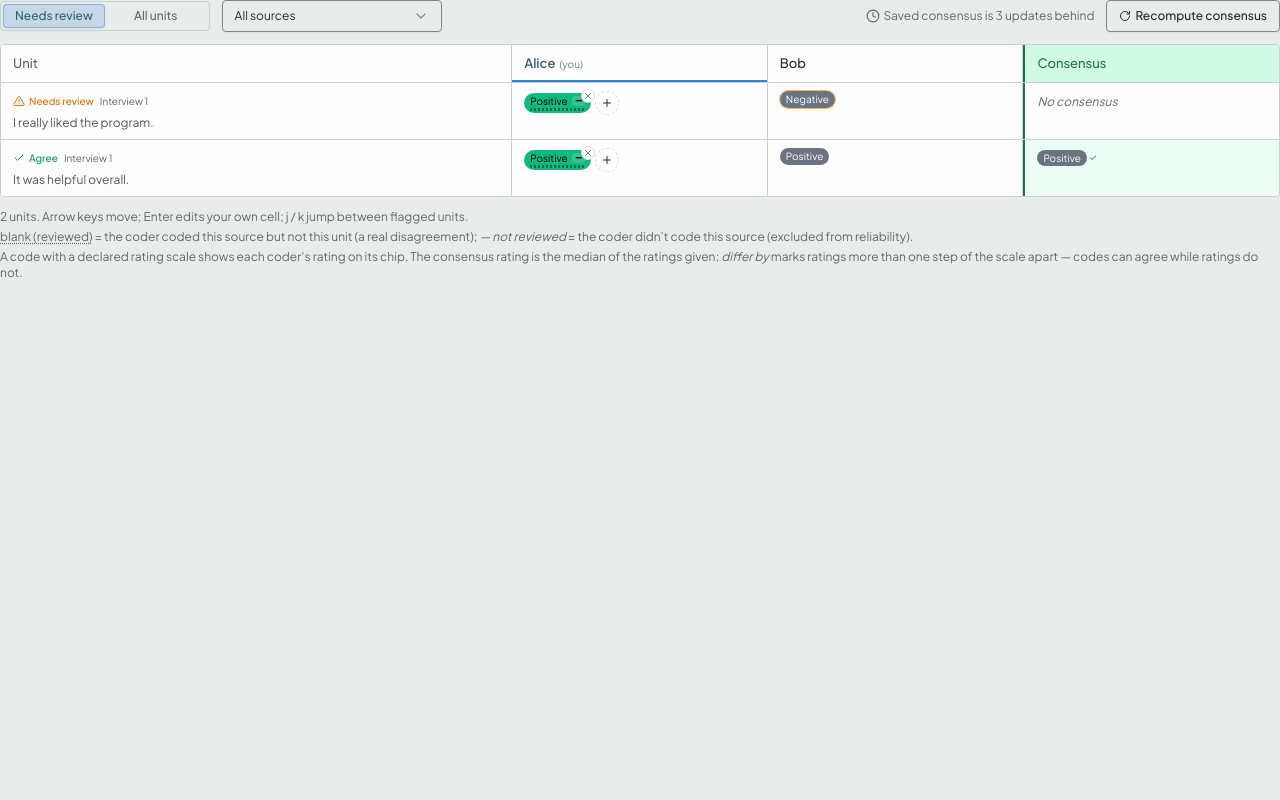
Scenario: ReconciliationGrid › #471(b): a colleague chip routes through the coder-switch confirm (does not navigate yet)
Expected: the table named "reconciliation" is shown, [1, 45, 1279, 196]
Bob's only chip is "Negative" (unit 100) — unique across the grid.
Click the button "Negative": (807, 99) [780, 91, 835, 108]
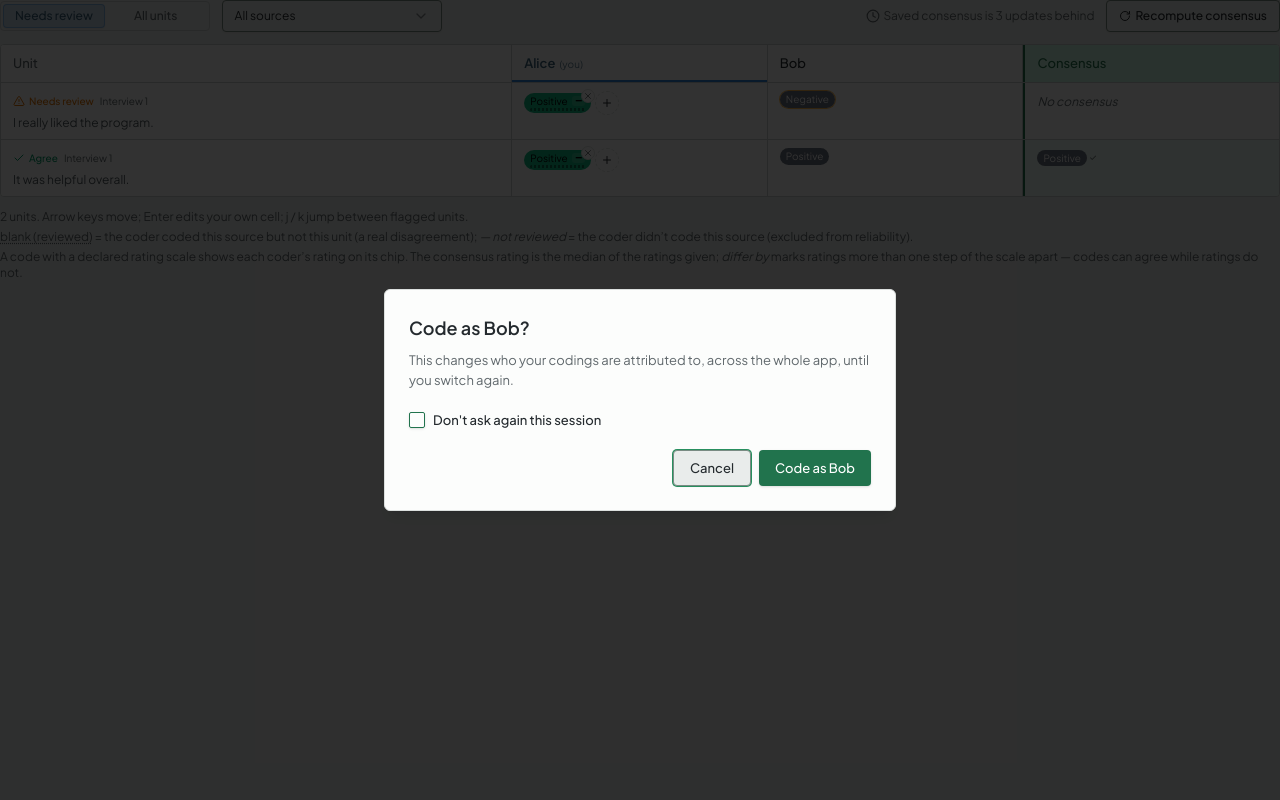
Result: the heading "Code as Bob?" is shown at [409, 316, 530, 339]
